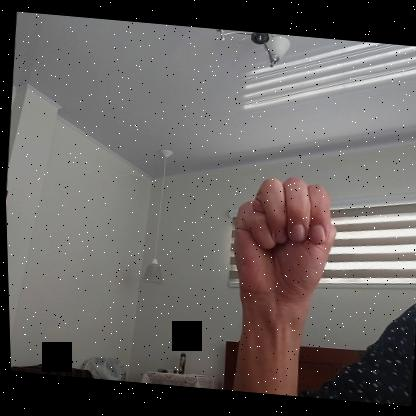M: (223, 171, 340, 309)
